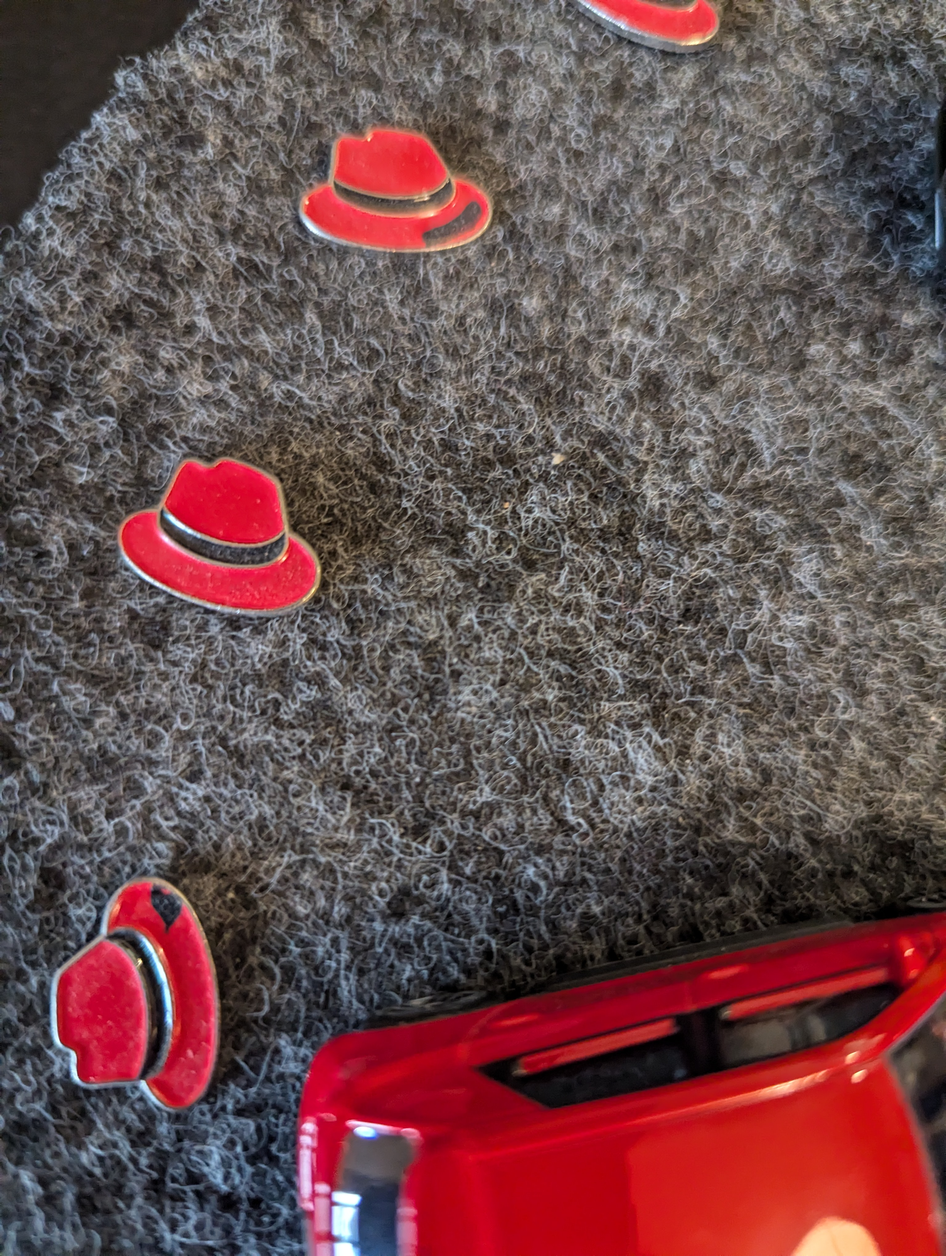Car: (272, 901, 946, 1256)
Red-Hat: (28, 835, 255, 1138), (86, 435, 339, 631), (257, 106, 512, 279)
Scratch: (407, 197, 494, 255), (129, 866, 192, 937)
